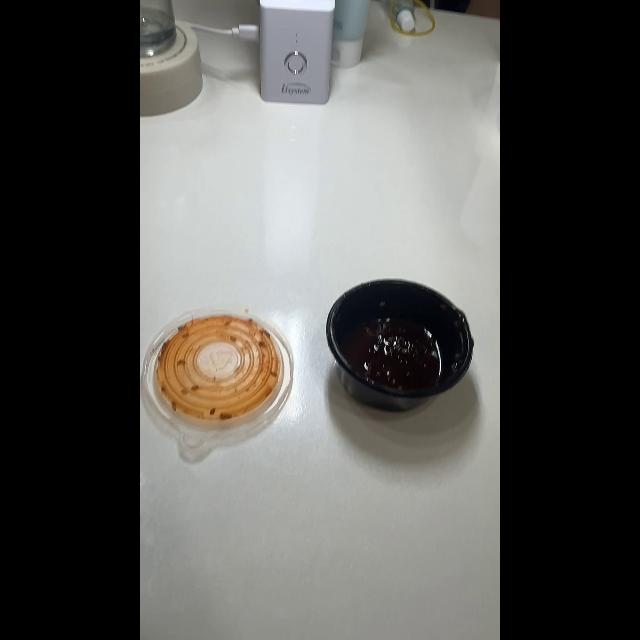dirty: (332, 284, 476, 422), (152, 313, 292, 439)
